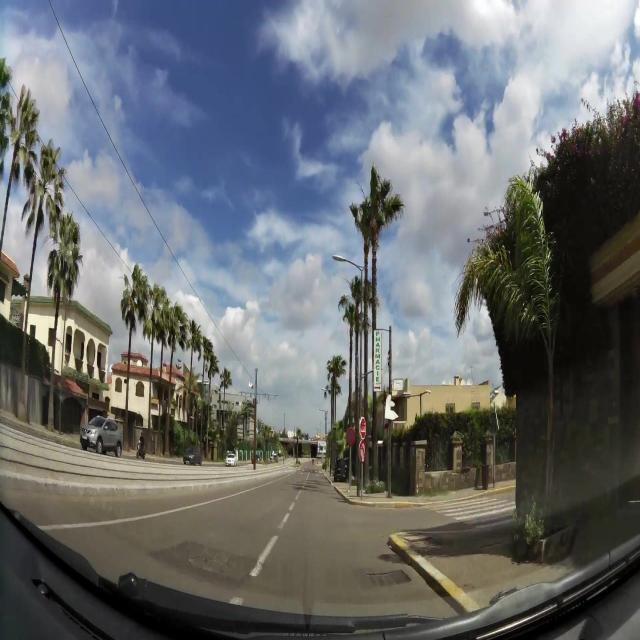forb_stopping: (343, 425, 356, 446)
